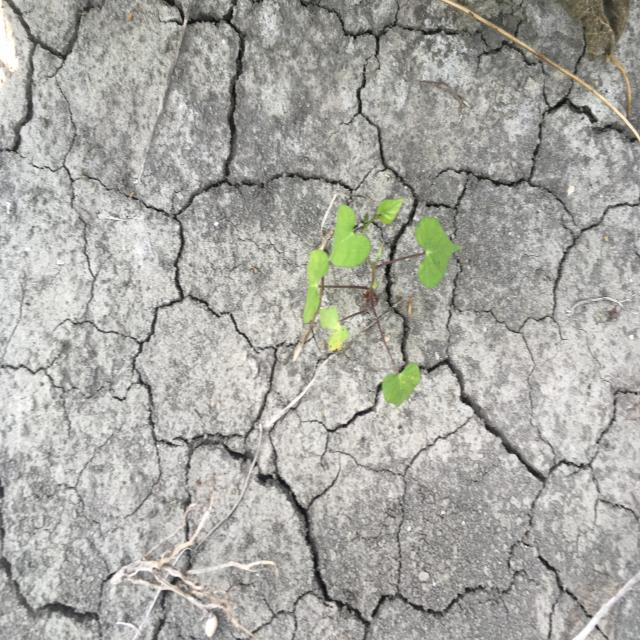MorningGlory: (301, 197, 465, 410)
